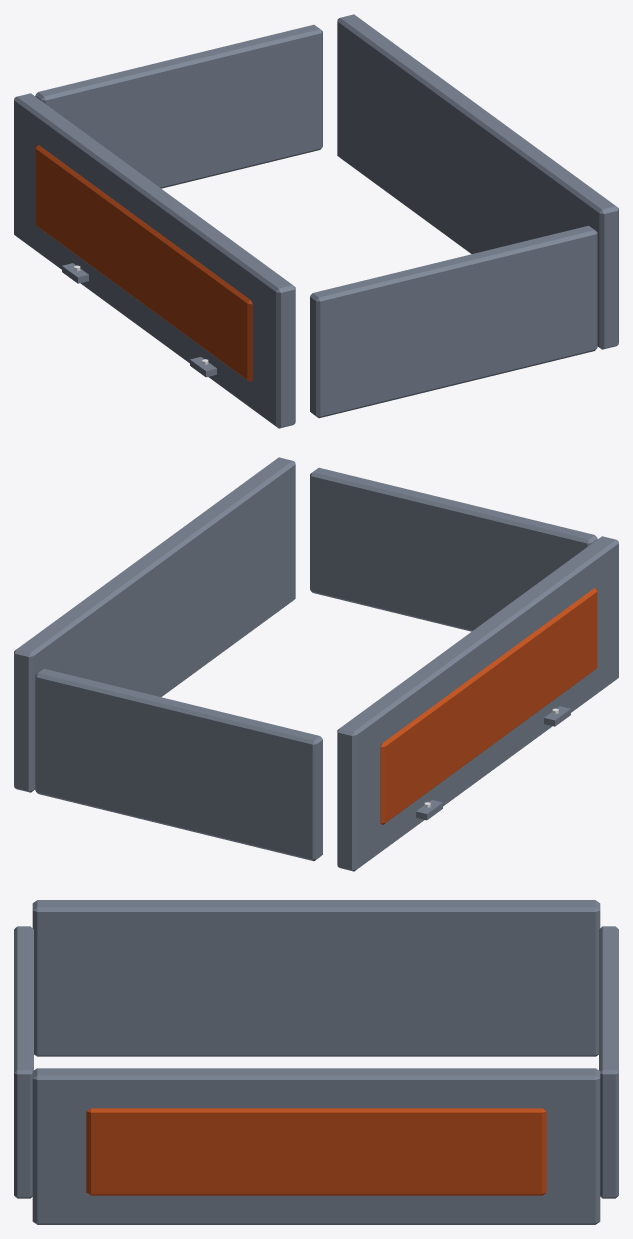
File: Shield_Standard.glb
3 renders of one model, top to bottom at view 1: azimuth 30°, elevation 25°; view 2: azimuth 150°, elevation 25°; view 3: azimuth 270°, elevation 25°, orthographic. The views are drawn at different scales.
Parts seen in each view (by area): view 1: Shield_Standard; view 2: Shield_Standard; view 3: Shield_Standard.
Boxes of the visible parts, left/top/right/bottom form: Shield_Standard: left=14, top=14, right=618, bottom=428; Shield_Standard: left=14, top=457, right=618, bottom=871; Shield_Standard: left=14, top=900, right=618, bottom=1224.
Bounding box in the file's own units: 1.55 × 0.58 × 2.13.
